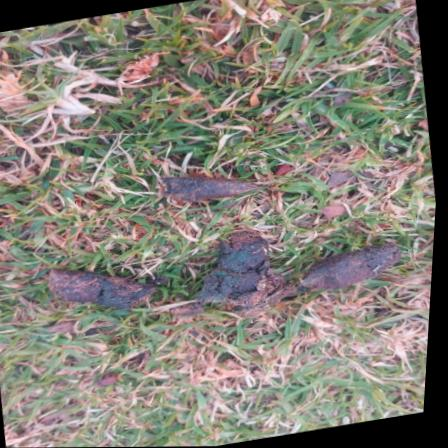dog-poop: (31, 203, 438, 359), (157, 163, 277, 213)
